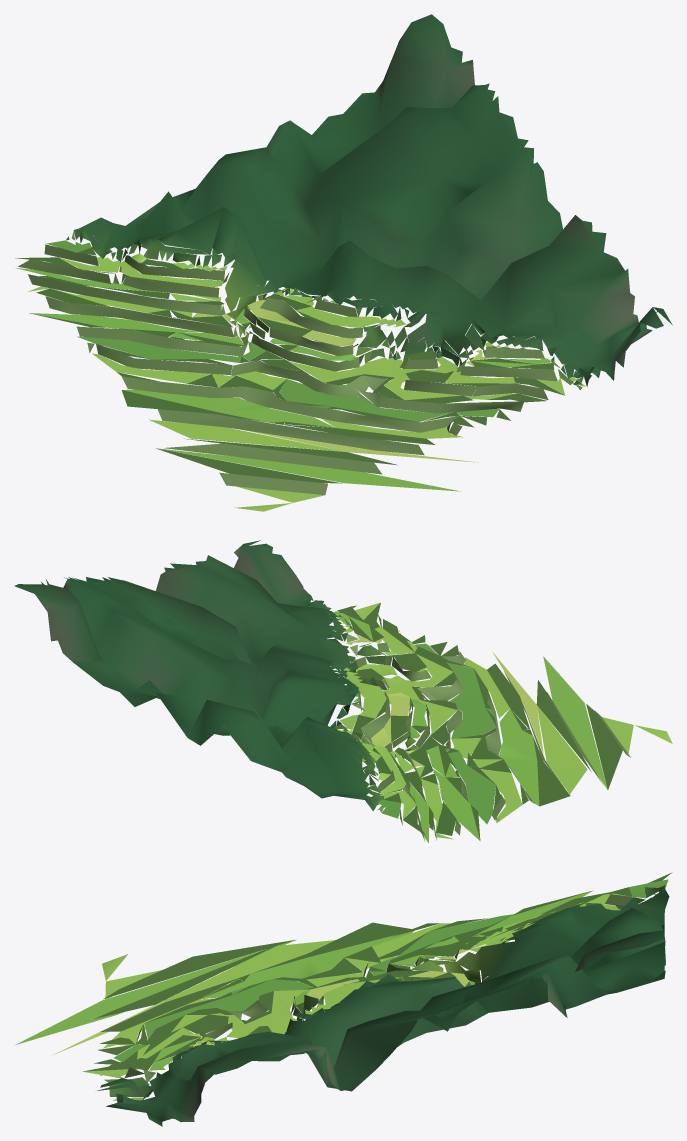
The model's file is payo_land_xm4_y6_lod2.glb.
3 renders of one model, top to bottom at view 1: azimuth 30°, elevation 25°; view 2: azimuth 150°, elevation 25°; view 3: azimuth 270°, elevation 25°, orthographic. The views are drawn at different scales.
Parts seen in each view (by area): view 1: payo_land_xm4_y6; view 2: payo_land_xm4_y6; view 3: payo_land_xm4_y6.
Boxes of the visible parts, <box> form: payo_land_xm4_y6: <box>15,14,672,511</box>; payo_land_xm4_y6: <box>14,540,672,842</box>; payo_land_xm4_y6: <box>15,872,672,1126</box>.
Size of the model in its own units: 275 by 131 by 303.
